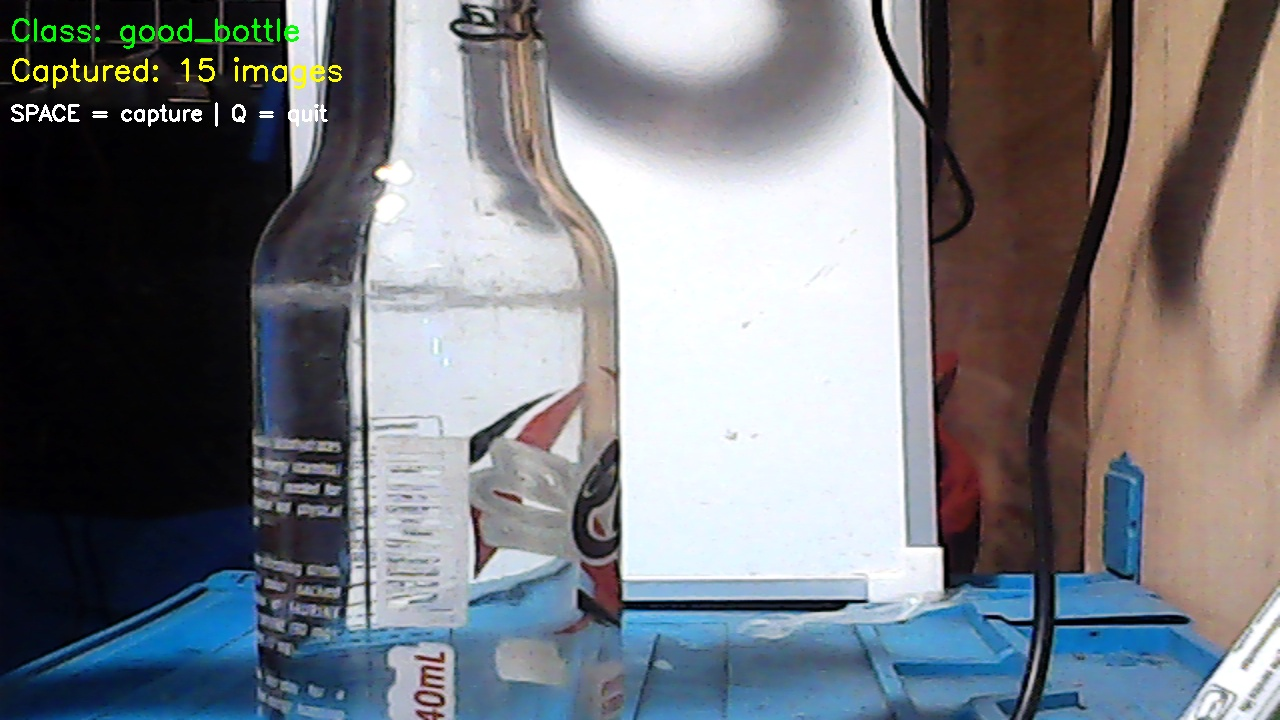good_bottle: (265, 6, 633, 720)
